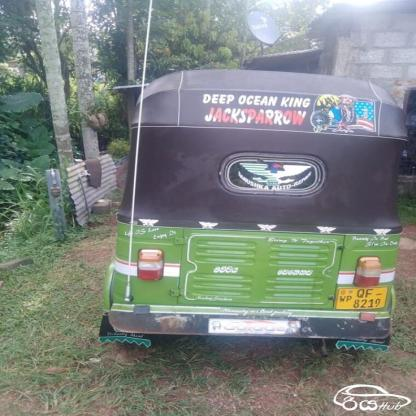number plate: (333, 286, 386, 314)
three wheeler back: (87, 61, 404, 356)
